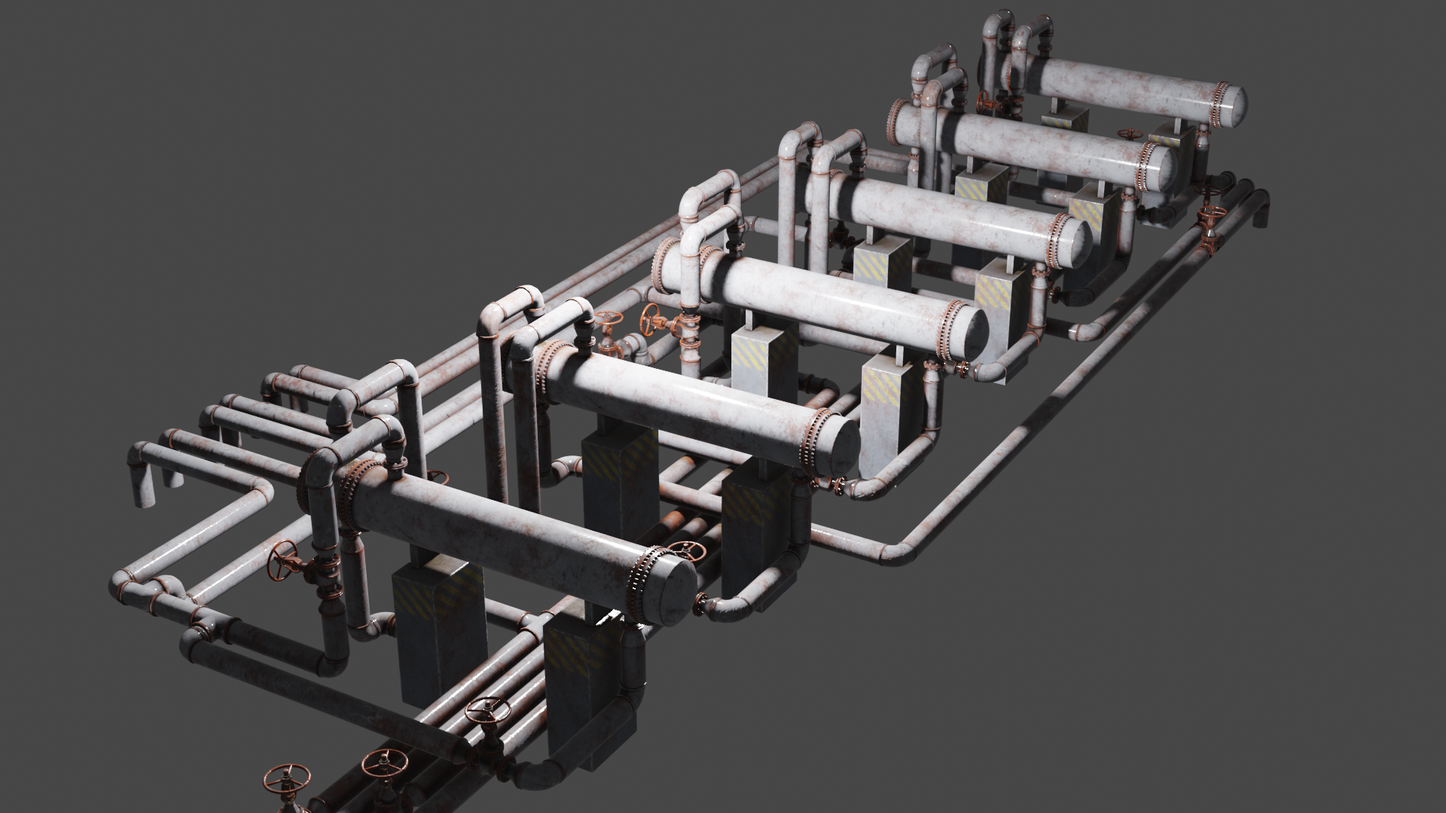HE_1: (974, 42, 1249, 131)
HE_2: (882, 95, 1172, 189)
HE_3: (793, 160, 1091, 269)
HE_4: (651, 234, 988, 362)
HE_5: (494, 332, 860, 481)
HE_6: (296, 441, 702, 626)
